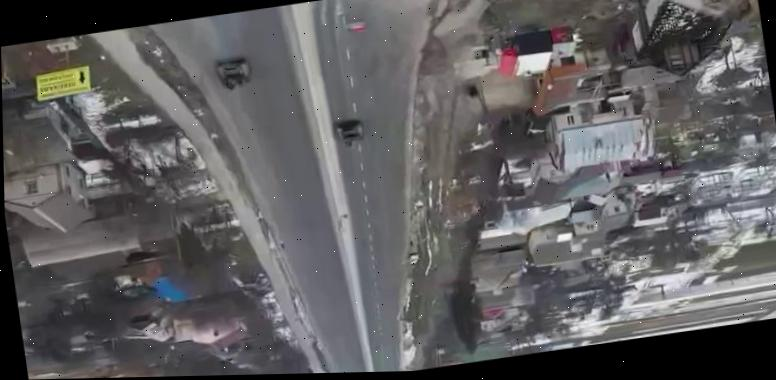tank: (214, 57, 252, 92), (335, 119, 366, 151)
